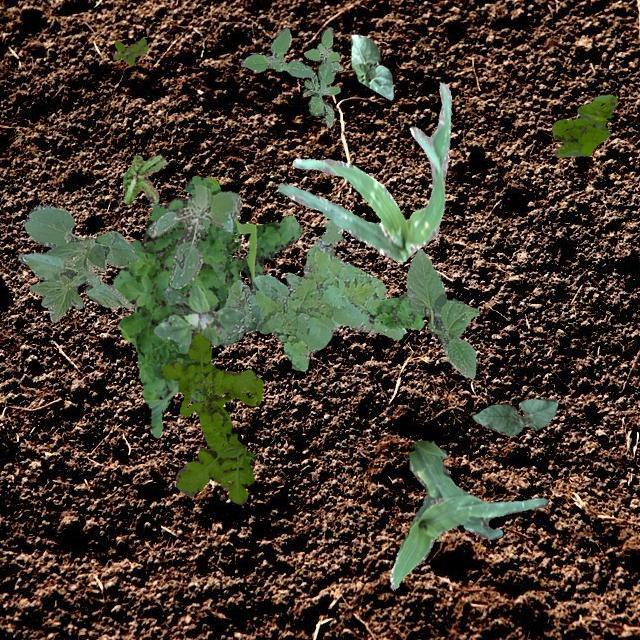crop: (276, 81, 452, 262), (389, 439, 546, 588), (18, 205, 138, 322), (406, 248, 478, 378), (472, 398, 556, 434), (348, 32, 392, 98)
weed: (112, 175, 300, 436), (210, 218, 404, 370), (160, 332, 262, 502), (240, 27, 342, 126), (148, 184, 240, 288), (153, 284, 245, 344), (550, 94, 616, 156), (366, 290, 424, 328), (122, 154, 164, 204), (112, 37, 146, 64)
